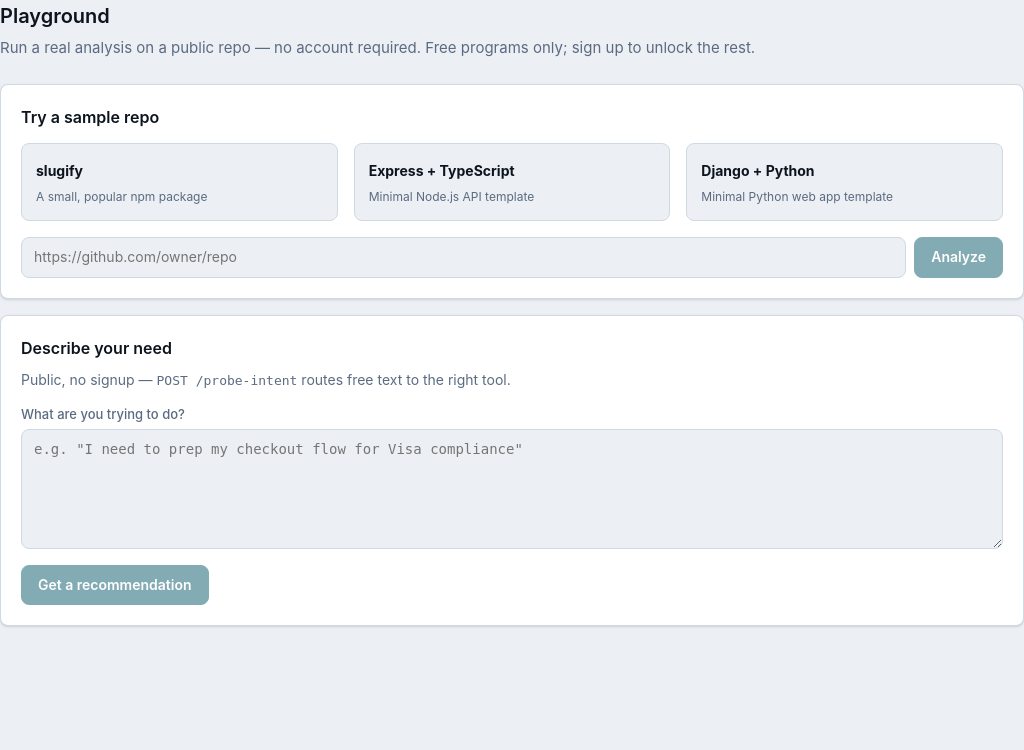
PlaygroundPage — running a real analysis › shows a retry option when the analysis fails
Click the text "slugify" at (60, 170), box [36,162,83,179]
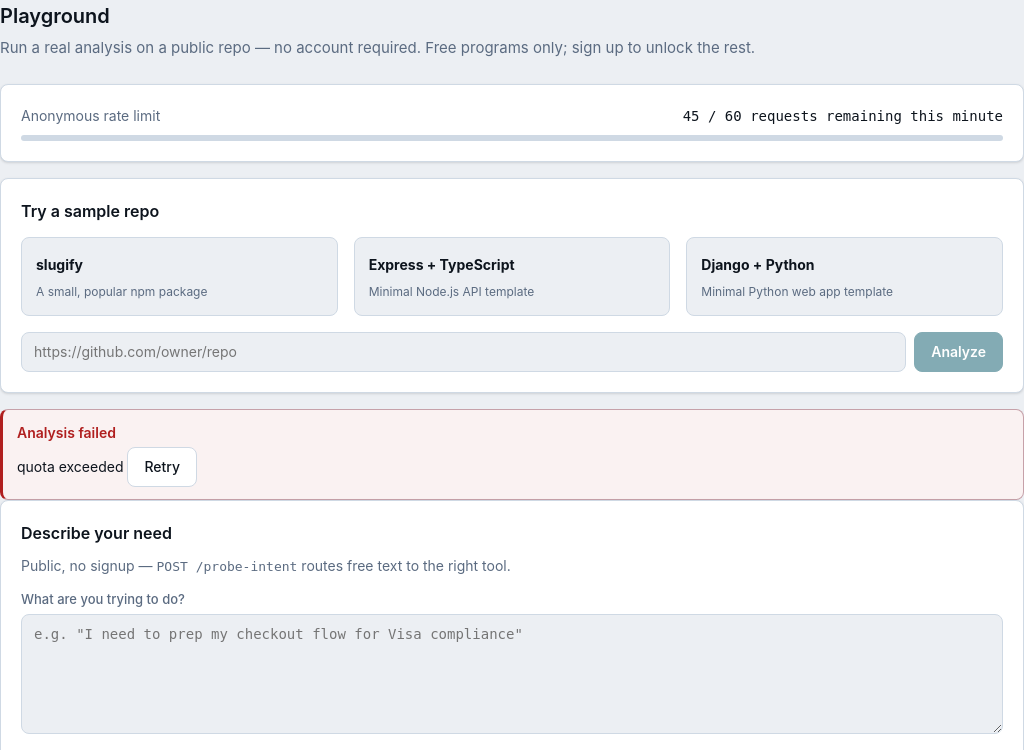
Check: the text "quota exceeded" is shown, box [17,458,124,474]
Check: the button "Retry" is shown, box [127,446,197,487]
